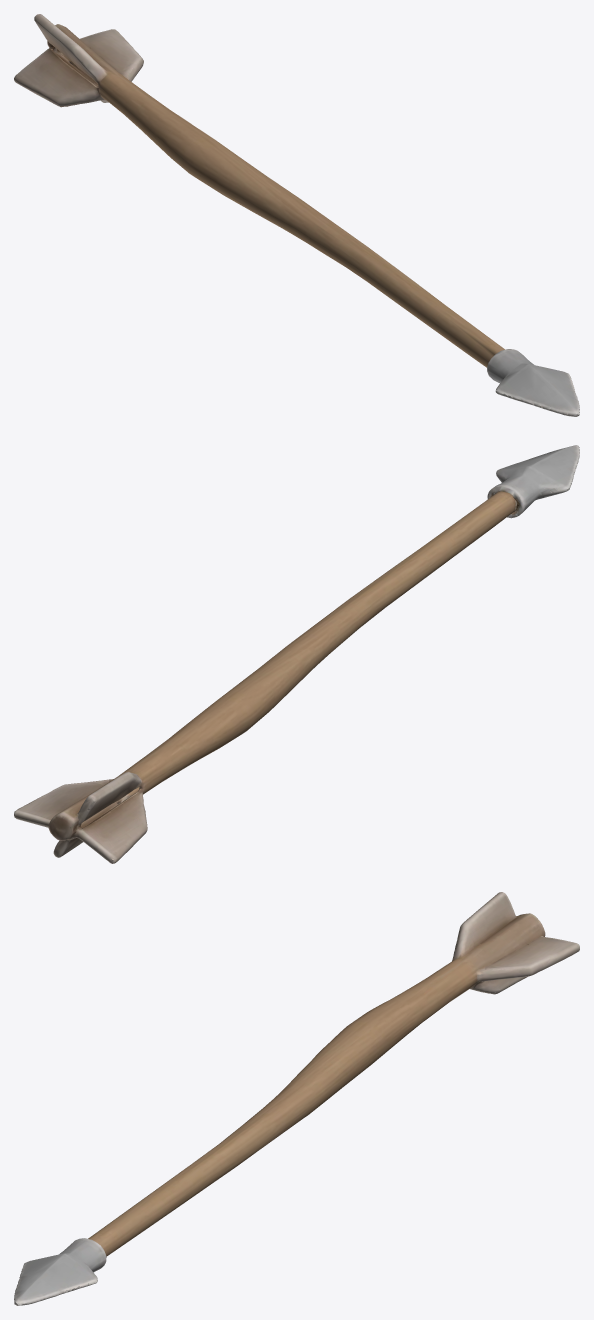
The picture shows the model from 3 angles, top to bottom: view 1: azimuth 30°, elevation 25°; view 2: azimuth 150°, elevation 25°; view 3: azimuth 330°, elevation 25°; orthographic projection.
Visible parts, largest first — view 1: geometry_0; view 2: geometry_0; view 3: geometry_0.
Boxes of the visible parts, x1=… form: geometry_0: x1=14, y1=14, x2=579, y2=416; geometry_0: x1=14, y1=445, x2=579, y2=863; geometry_0: x1=14, y1=892, x2=579, y2=1305.
Size of the model in its own units: 0.1144 by 0.0755 by 1.
1 material, 1 textured.
